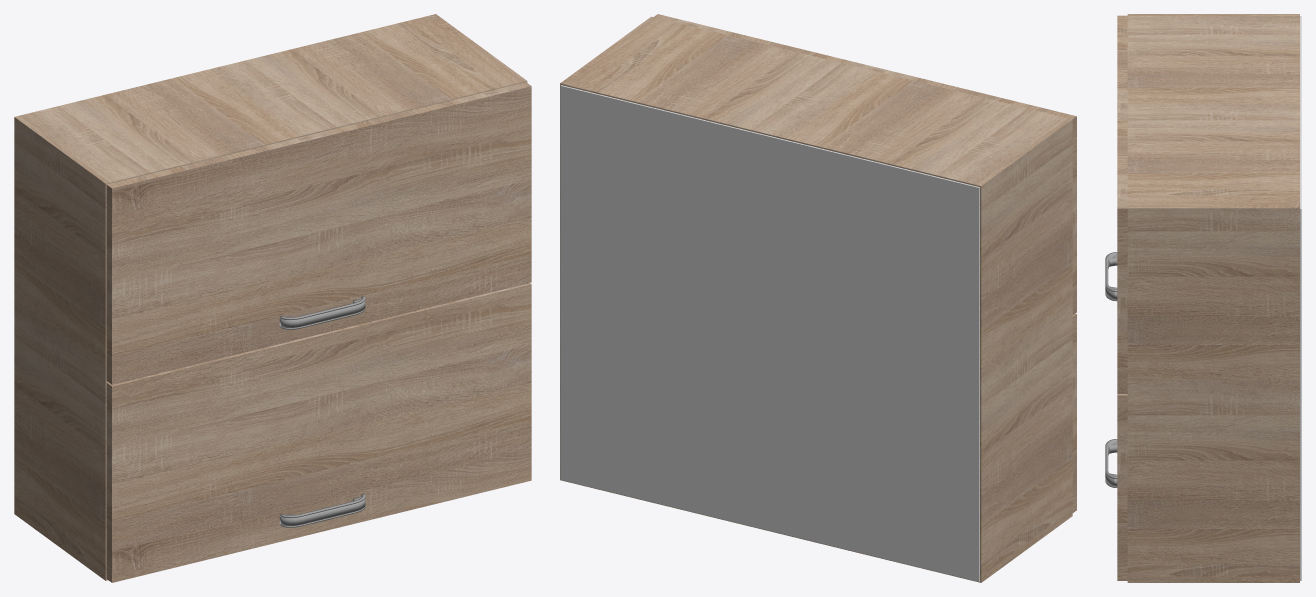
3 renders of one model, left to right at view 1: azimuth 30°, elevation 25°; view 2: azimuth 150°, elevation 25°; view 3: azimuth 270°, elevation 25°, orthographic. The views are drawn at different scales.
Parts seen in each view (by area): view 1: s_f2f_72_80_ajto_1, s_f2f_72_80_ajto_2, s_f2f_72_80_korpusz, s_f2f_72_80_fogo_2, s_f2f_72_80_fogo_1; view 2: s_f2f_72_80_korpusz, s_f2f_72_80_ajto_1, s_f2f_72_80_ajto_2; view 3: s_f2f_72_80_korpusz, s_f2f_72_80_ajto_1, s_f2f_72_80_ajto_2, s_f2f_72_80_fogo_1, s_f2f_72_80_fogo_2.
Part boxes in pixels (bbox=[...]): s_f2f_72_80_ajto_1: bbox=[106, 82, 531, 384]; s_f2f_72_80_ajto_2: bbox=[106, 283, 531, 582]; s_f2f_72_80_korpusz: bbox=[14, 14, 527, 580]; s_f2f_72_80_fogo_2: bbox=[279, 494, 365, 527]; s_f2f_72_80_fogo_1: bbox=[279, 296, 365, 329]; s_f2f_72_80_korpusz: bbox=[560, 16, 1072, 582]; s_f2f_72_80_ajto_1: bbox=[653, 14, 1076, 314]; s_f2f_72_80_ajto_2: bbox=[1072, 313, 1076, 512]; s_f2f_72_80_korpusz: bbox=[1127, 14, 1301, 582]; s_f2f_72_80_ajto_1: bbox=[1117, 15, 1127, 393]; s_f2f_72_80_ajto_2: bbox=[1117, 394, 1127, 580]; s_f2f_72_80_fogo_1: bbox=[1105, 252, 1117, 301]; s_f2f_72_80_fogo_2: bbox=[1105, 439, 1117, 487].
Size of the model in its own units: 0.8 by 0.72 by 0.3418.
Materials: 5 (3 with a texture image).
